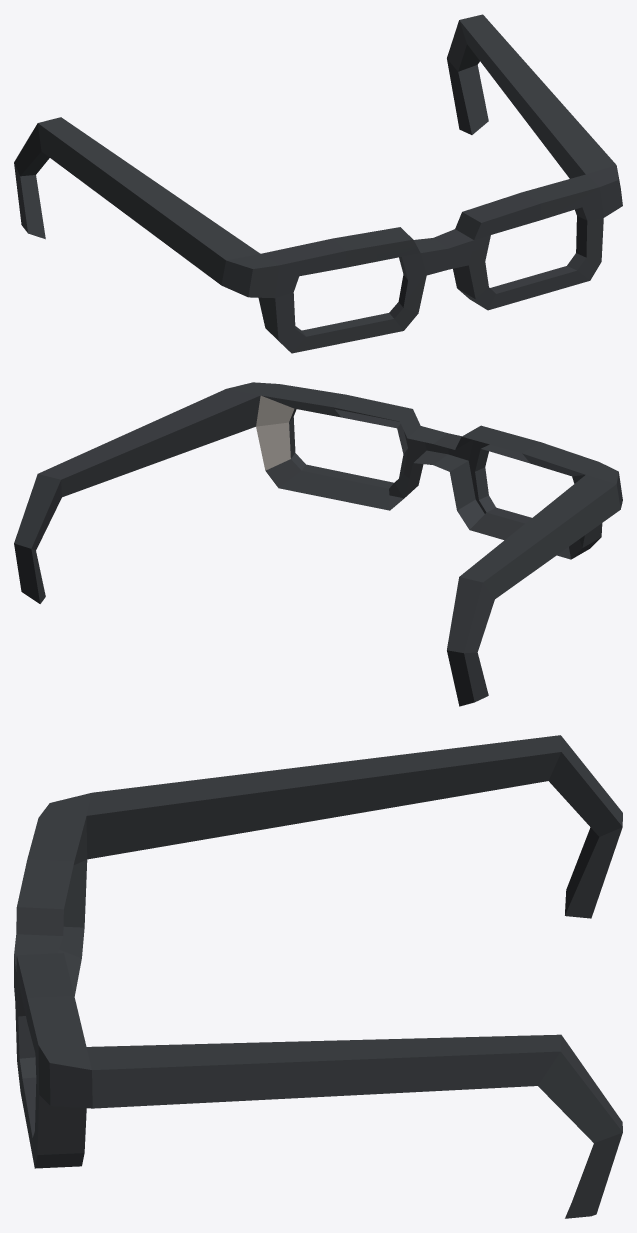
Rendered from SM_Chr_Inspector_Male_Glasses_01.glb.
3 views of the same model, one above another, from view 1: azimuth 30°, elevation 25°; view 2: azimuth 150°, elevation 25°; view 3: azimuth 270°, elevation 25° (orthographic). The views are drawn at different scales.
Parts seen in each view (by area): view 1: SM_Chr_Inspector_Male_Glasses_01; view 2: SM_Chr_Inspector_Male_Glasses_01; view 3: SM_Chr_Inspector_Male_Glasses_01.
Part boxes in pixels (bbox=[...]): SM_Chr_Inspector_Male_Glasses_01: bbox=[14, 14, 622, 353]; SM_Chr_Inspector_Male_Glasses_01: bbox=[14, 382, 622, 706]; SM_Chr_Inspector_Male_Glasses_01: bbox=[14, 735, 622, 1218].
Bounding box in the file's own units: 0.2454 × 0.0609 × 0.193.
Materials: 1 (1 with a texture image).
